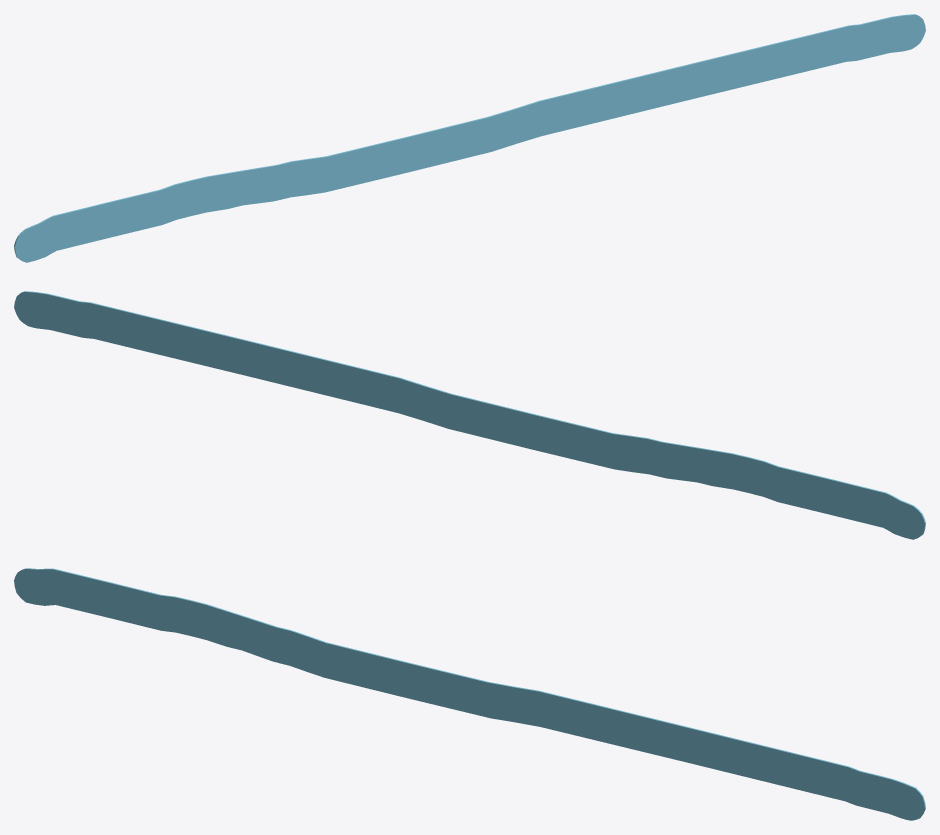
The model's file is tinker.obj.
The picture shows the model from 3 angles, top to bottom: view 1: azimuth 30°, elevation 25°; view 2: azimuth 150°, elevation 25°; view 3: azimuth 330°, elevation 25°; orthographic projection.
Visible parts, largest first — view 1: obj_0; view 2: obj_0; view 3: obj_0.
Boxes of the visible parts, x1,y1,x2,y2 form: obj_0: (14, 14, 925, 262); obj_0: (14, 291, 925, 539); obj_0: (14, 568, 925, 820).
Size of the model in its own units: 54.4 by 2.53 by 0.1.
